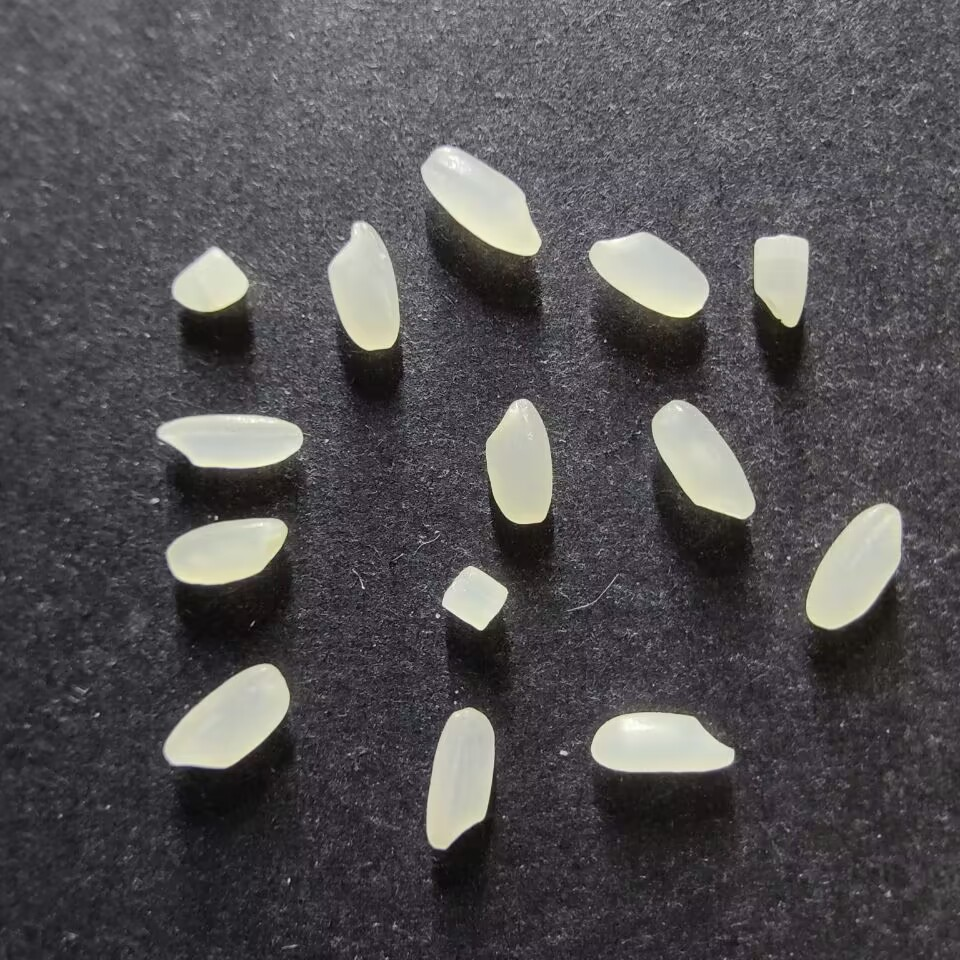broken: (752, 234, 810, 329), (170, 245, 250, 313), (439, 564, 509, 631)
rice: (419, 145, 544, 256), (161, 662, 289, 770), (649, 398, 757, 522), (804, 503, 903, 630), (586, 230, 710, 319), (423, 705, 495, 850), (325, 219, 402, 351), (588, 711, 737, 775), (483, 397, 554, 525), (163, 515, 288, 586), (154, 413, 303, 469)
